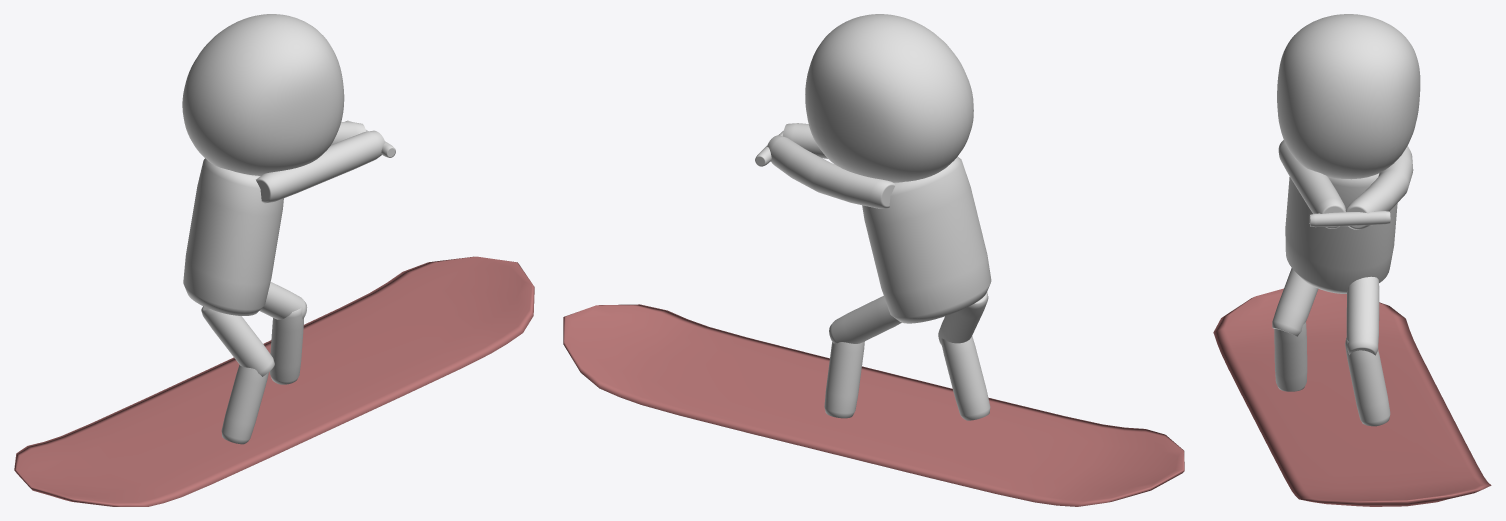
Rendered from char_Blockout.fbx.
3 renders of one model, left to right at view 1: azimuth 30°, elevation 25°; view 2: azimuth 150°, elevation 25°; view 3: azimuth 270°, elevation 25°, orthographic. The views are drawn at different scales.
Visible parts, largest first — view 1: Wakeboard, Human; view 2: Wakeboard, Human; view 3: Human, Wakeboard.
Part boxes in pixels (left/top/right/bottom): Wakeboard: left=14, top=256, right=534, bottom=506; Human: left=182, top=14, right=395, bottom=444; Wakeboard: left=563, top=304, right=1184, bottom=506; Human: left=755, top=14, right=991, bottom=420; Human: left=1272, top=14, right=1420, bottom=426; Wakeboard: left=1213, top=288, right=1491, bottom=506.
Bounding box in the file's own units: 1.46 × 1.03 × 0.6267.
